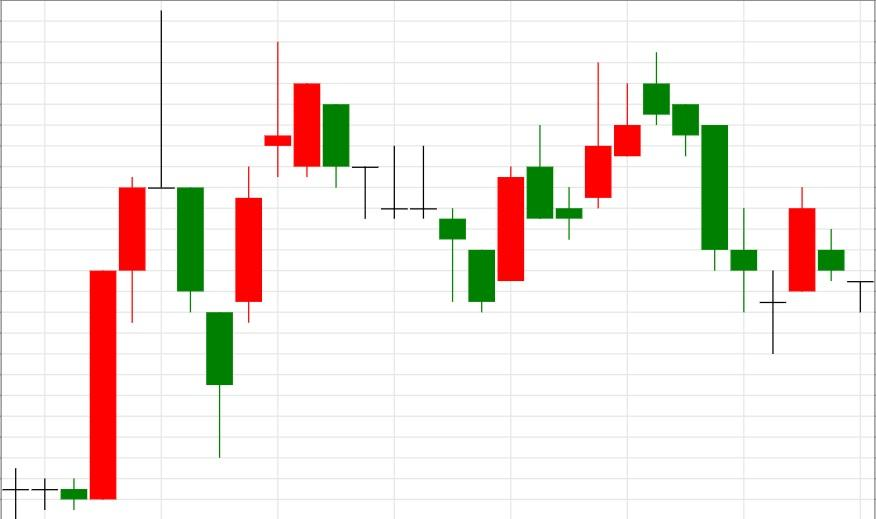evening_star_fall: (2, 11, 205, 518)
